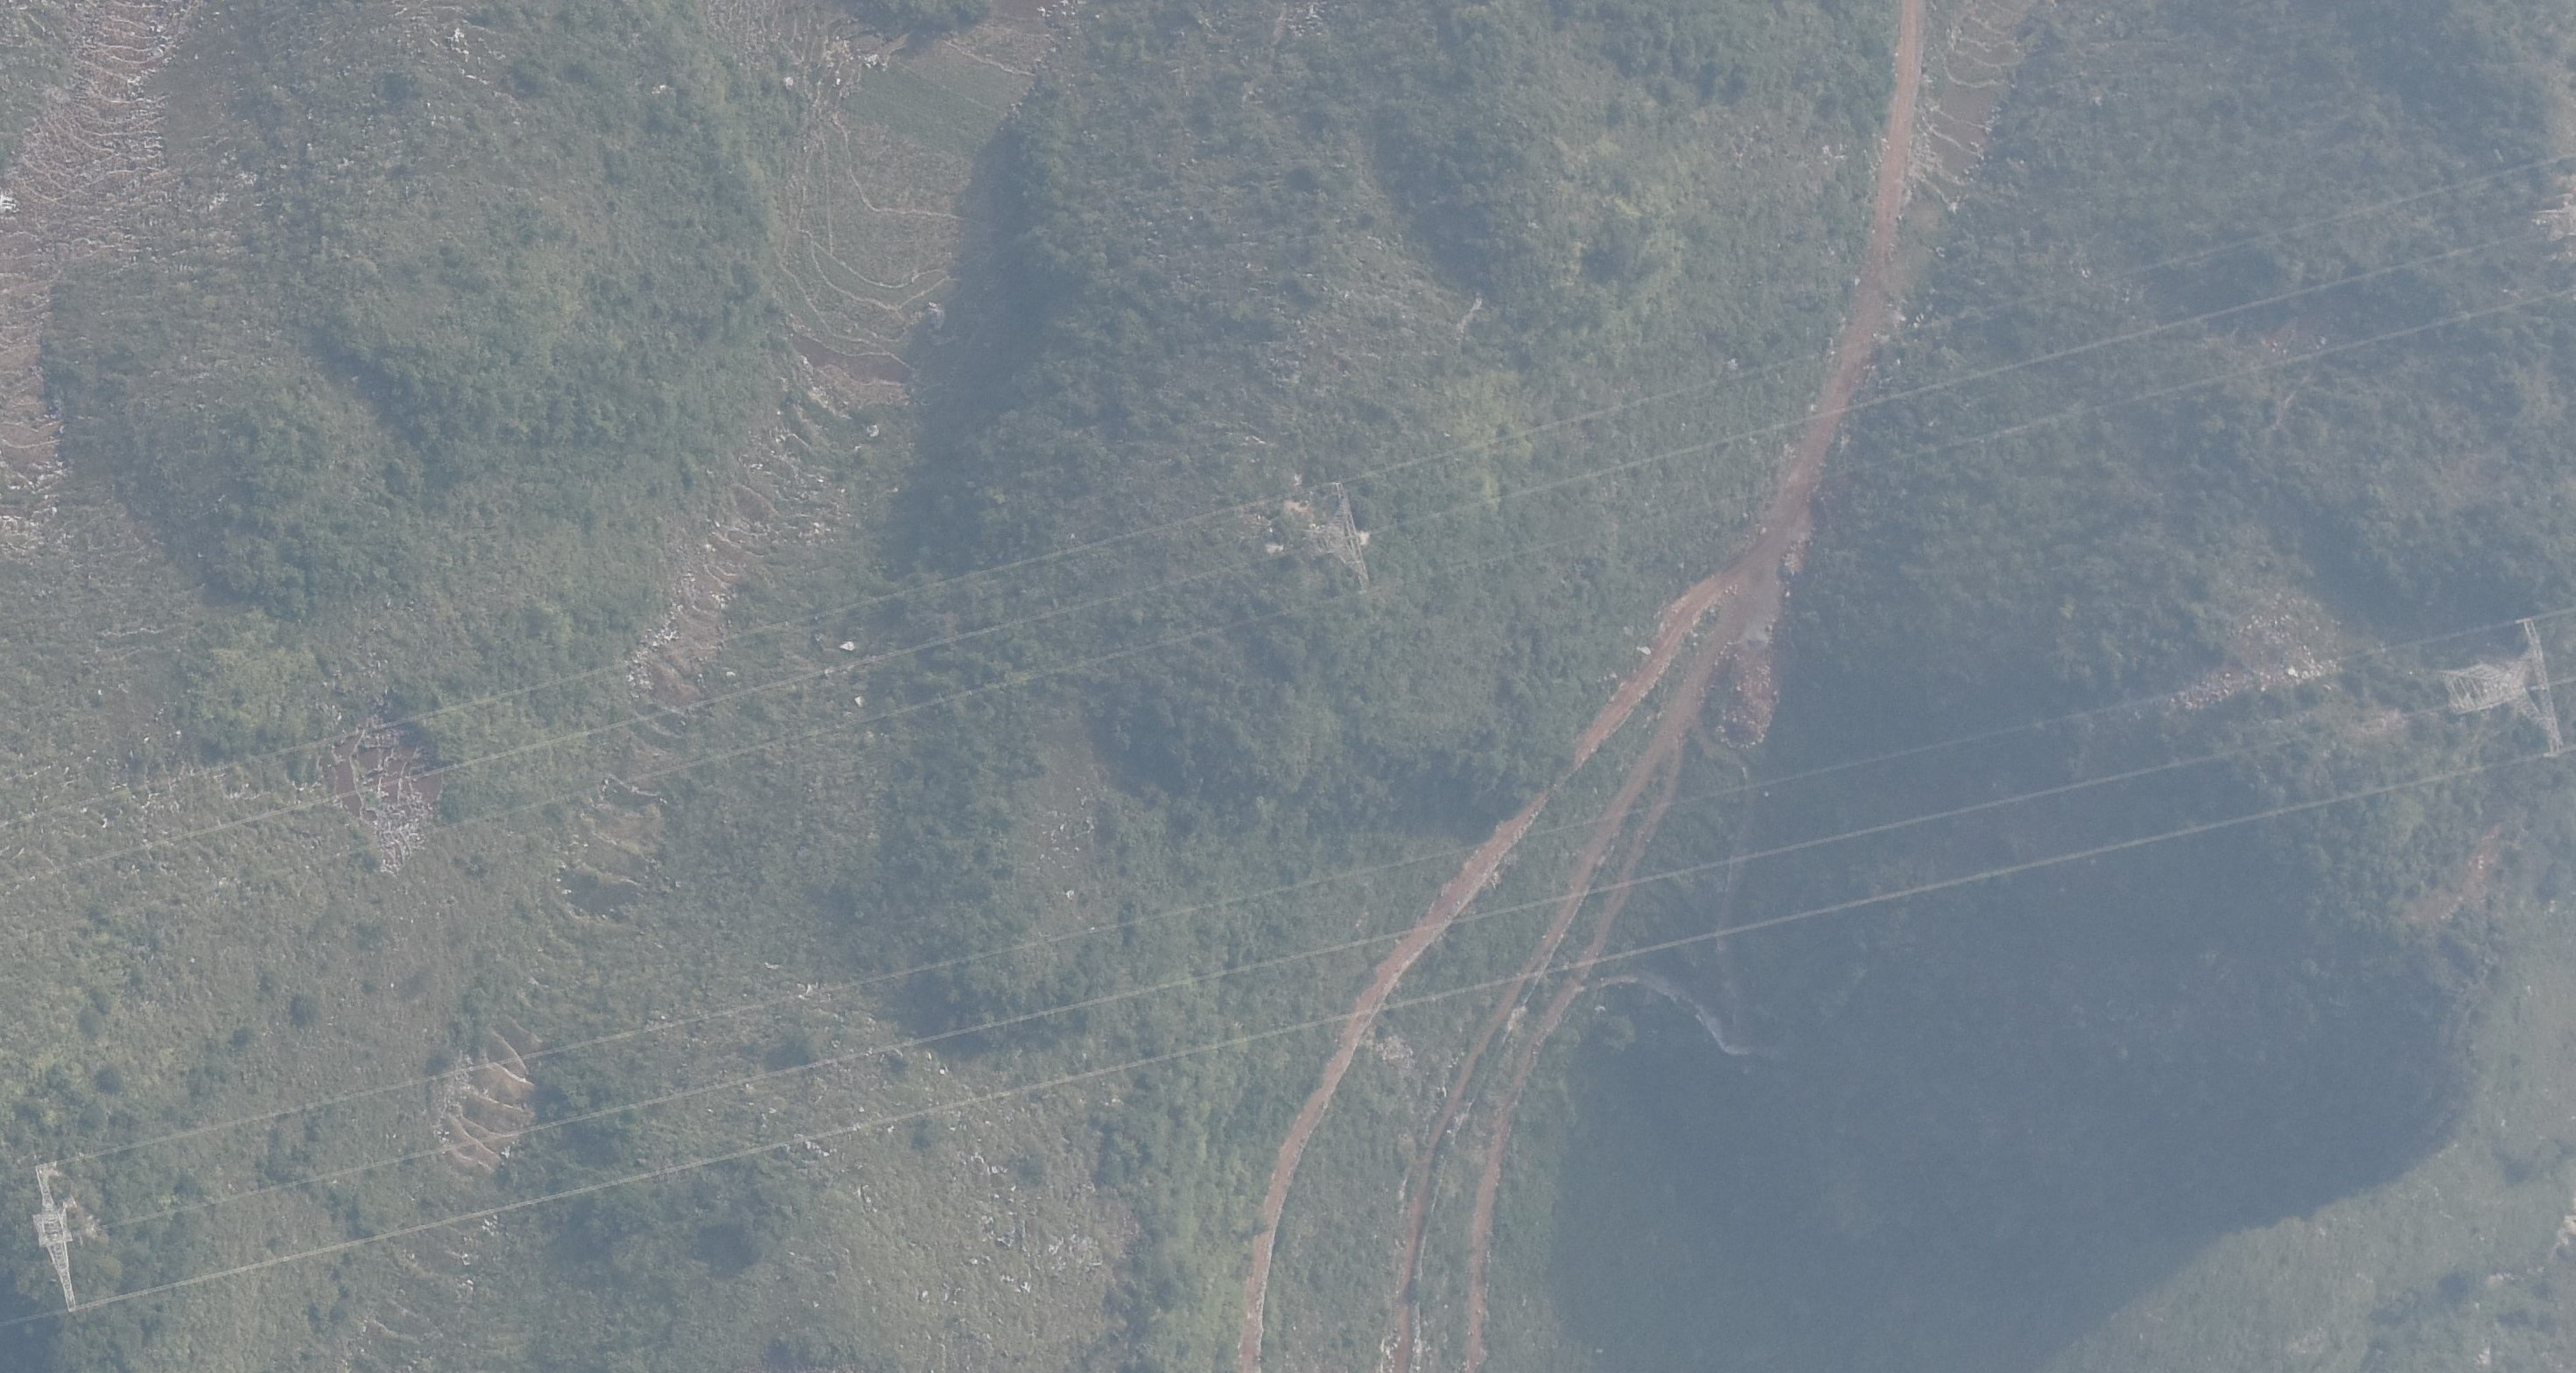cable-tower: (2452, 598, 2561, 787), (1279, 477, 1406, 620), (20, 1165, 102, 1312)
